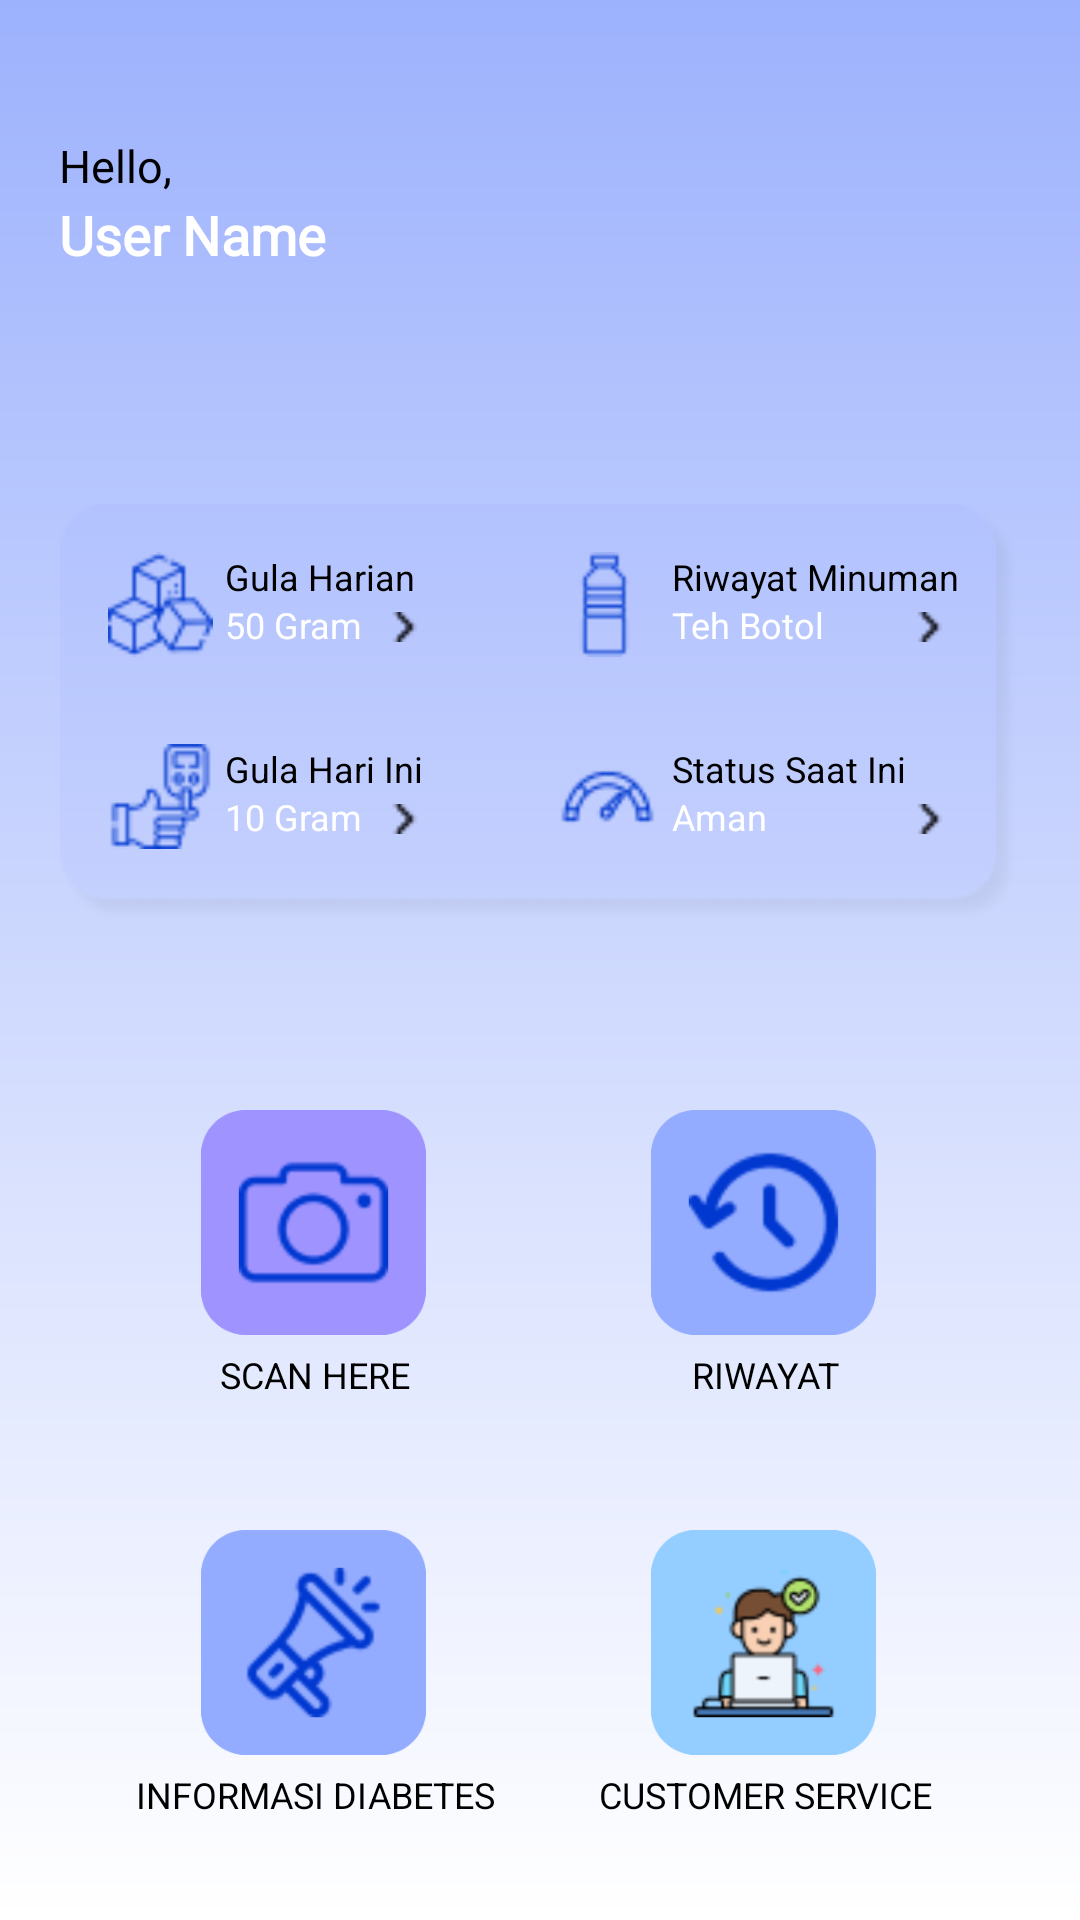

Named icons in this screenshot (1080px x 1920px) and their bounding boxes, box=[x1, y1, x2, y2]:
panah: box=[393, 612, 415, 642], box=[918, 612, 940, 642], box=[393, 804, 415, 834], box=[918, 804, 940, 834]
